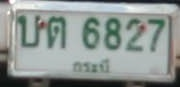txt16: (46, 15, 66, 50)
txt21: (16, 14, 41, 48)
